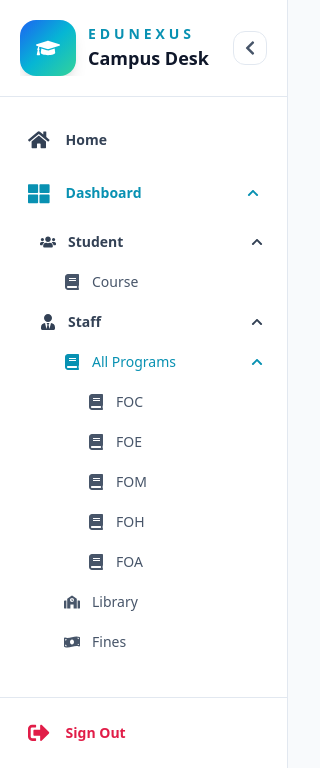
Test: SideNav › toggles nested sections open and closed
Click the button "All Programs" at (164, 362), box [52,344,275,380]
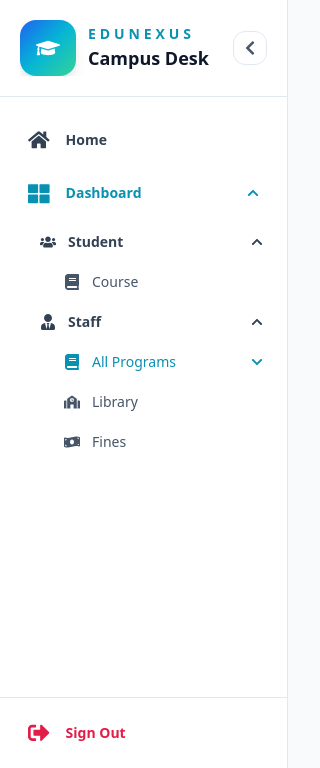
Now the link "FOC" is gone
Click the button "All Programs" at (164, 362), box [52,344,275,380]
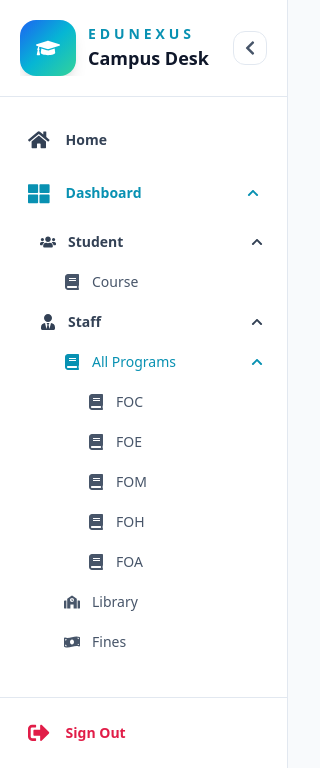
Now the link "FOC" is shown, box [88,392,143,411]
